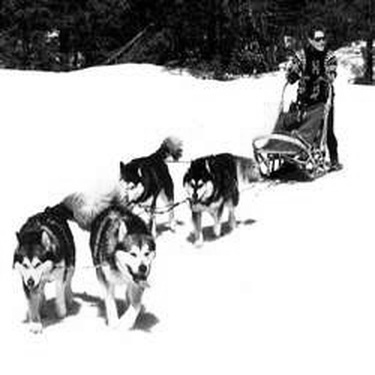dog: (11, 182, 102, 336), (79, 171, 160, 334), (176, 140, 268, 258), (107, 131, 189, 243)
